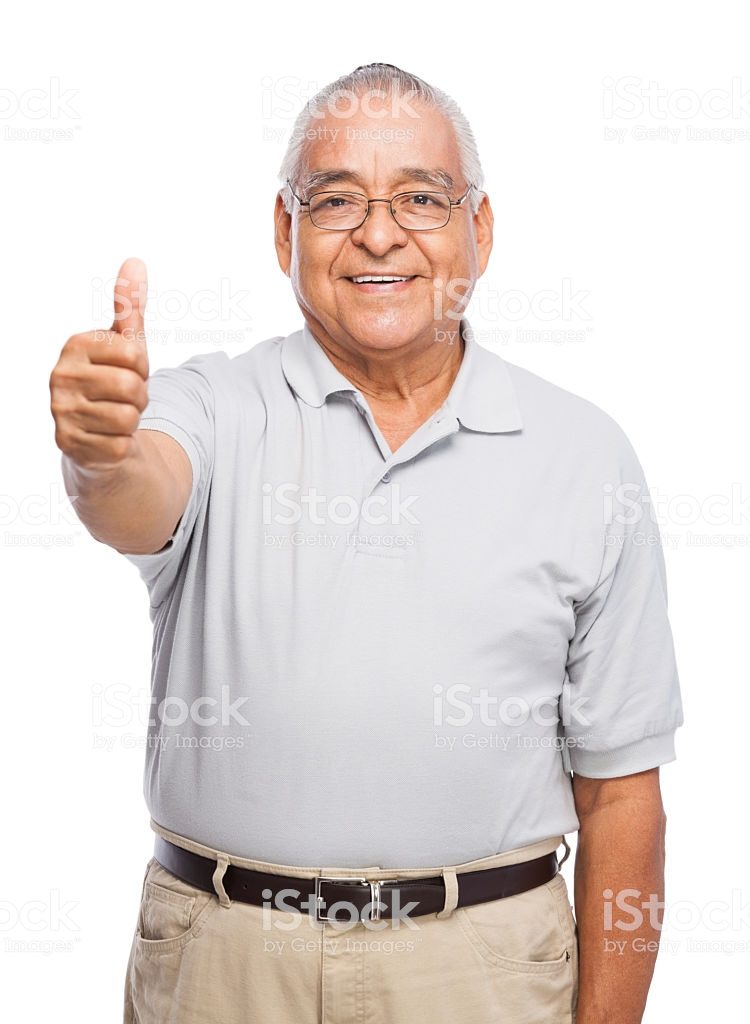thumbsup: (49, 257, 150, 464)
